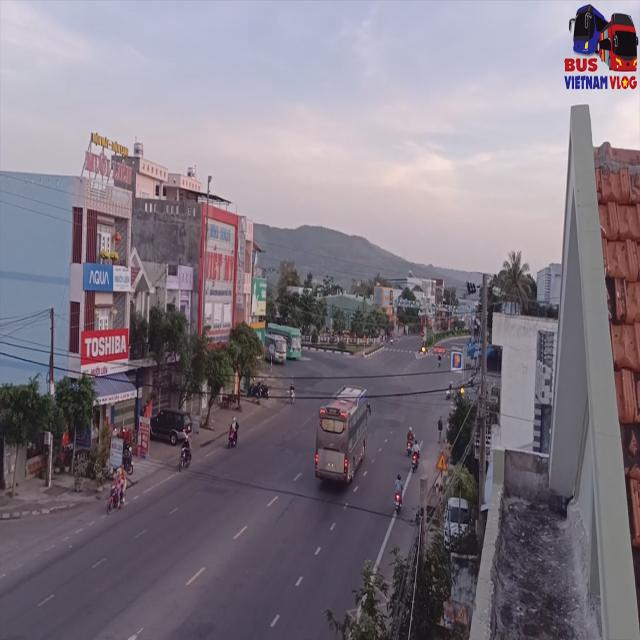bus: (314, 385, 370, 491)
car: (566, 0, 638, 36)
motorbike: (108, 471, 128, 518), (178, 433, 192, 472), (227, 415, 240, 452), (393, 474, 402, 512), (411, 443, 422, 472), (406, 423, 414, 454)
truck: (592, 2, 637, 406)
